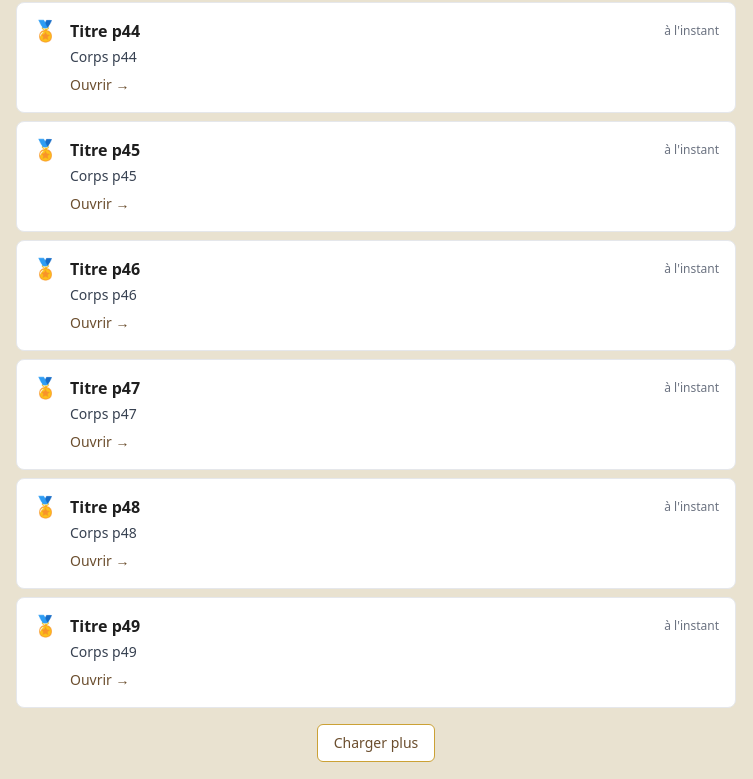
Test: NotificationsPage › « Charger plus » quand une page complète est renvoyée
The width and height of the screenshot is (753, 779).
(page scrolled)
Step 1. Click the button with test id "notifications-load-more" → (376, 743), box [317,724,435,762]
(page scrolled)
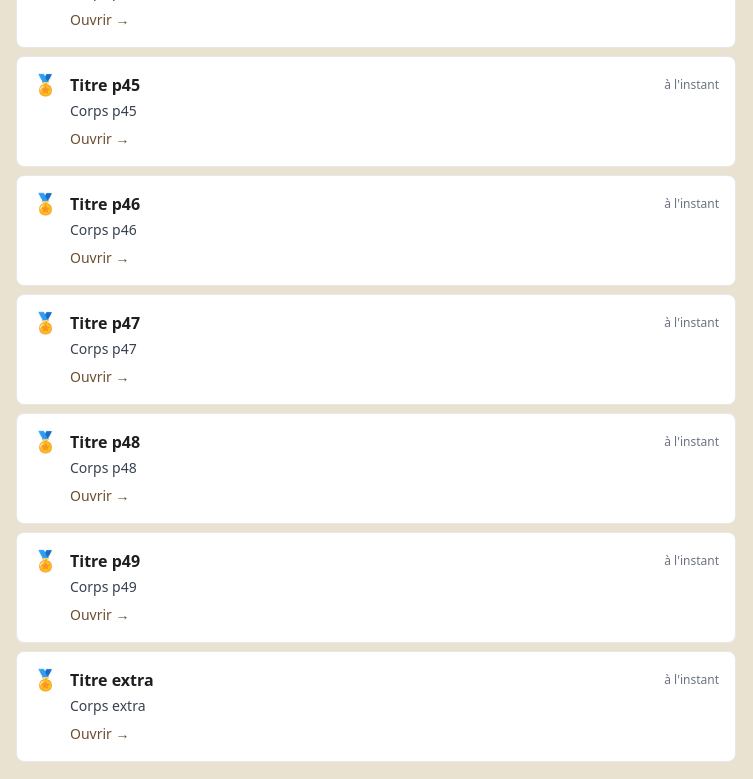
Expected: the list item with test id "notification-item-extra" is shown, [16,651,736,762]
Expected: the button with test id "notifications-load-more" is gone
